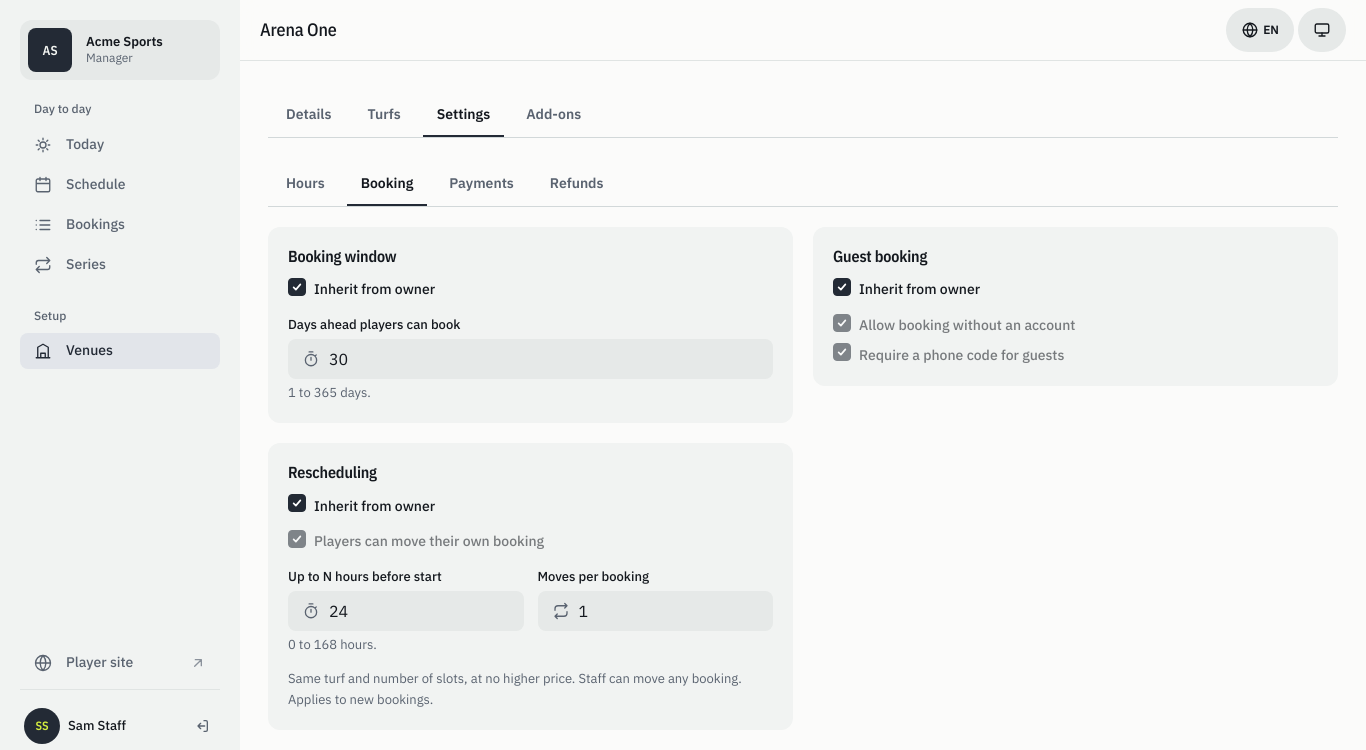
Test: VenueSettingsTab › venue settings tab saves settings patch under the settings key
Click the checkbox labelled "Inherit from owner" below "Booking window": (297, 287) 288,278 -> 306,296
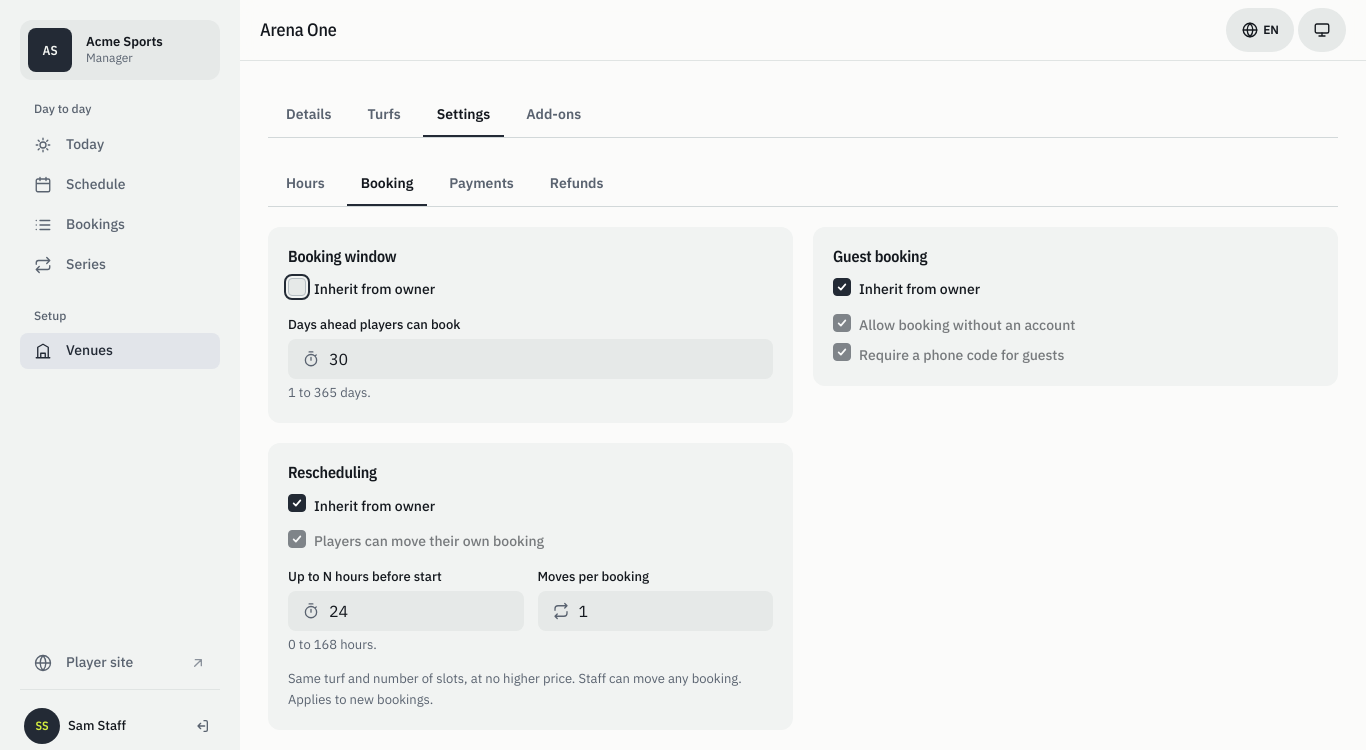
Replace the text in the number field labelled "Days ahead players can book" with "60": (530, 359) 288,339 -> 773,379
(page scrolled)
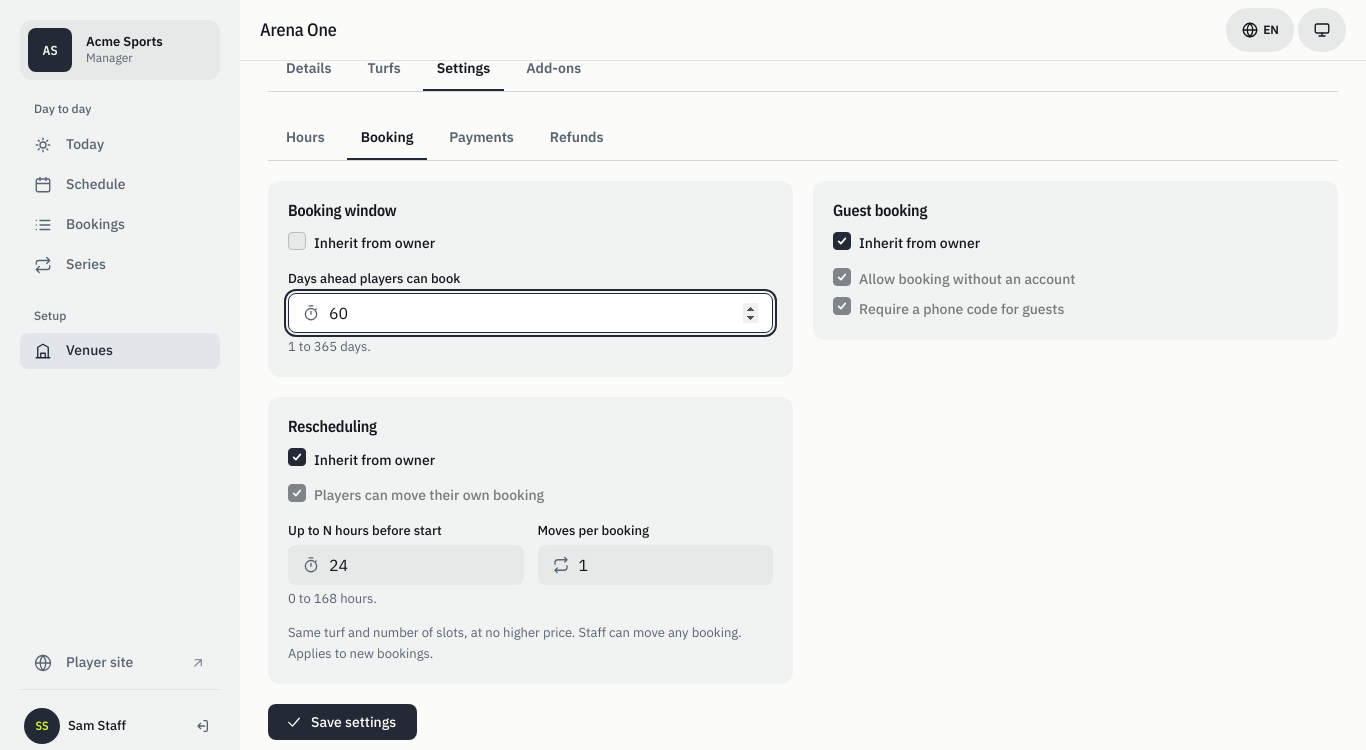
Click the button "Save settings": (343, 722) 268,704 -> 417,740
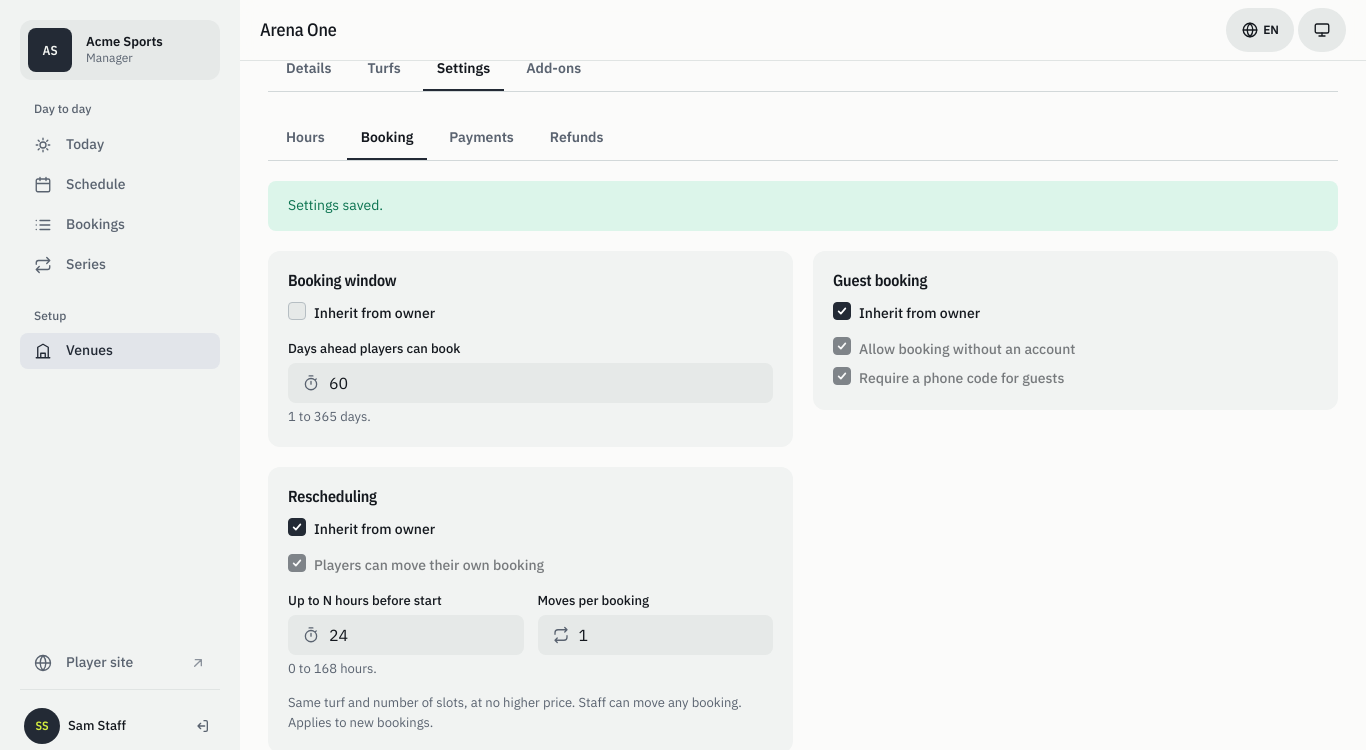
Check: the text "Settings saved." is shown, box 268,181 -> 1338,231
